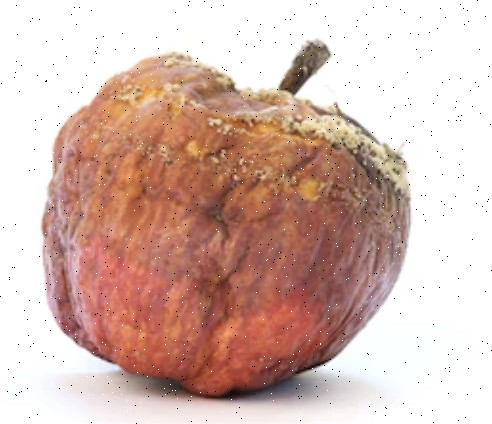rotten_apple: (40, 51, 413, 395)
